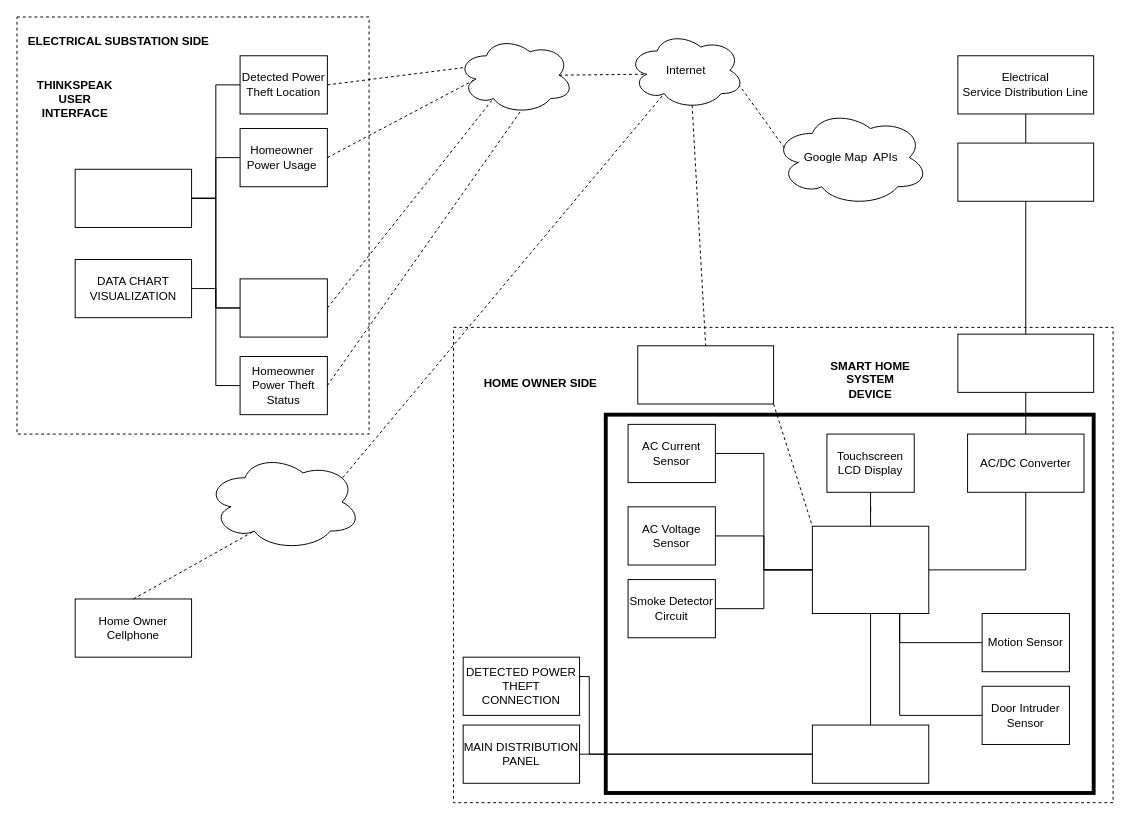
Image size: 1130x820. Some labels were removed from this diagram. The centre of each missing label's shape, as x and y in pixels:
"AC HIGH POWER RELAY" goes at pixel 870 753.
"Breaker" goes at pixel 1025 362.
"DATA TABLE FORMAT" goes at pixel 133 197.
"Electric Meter" goes at pixel 1025 171.
"ESP32" goes at pixel 870 569.
"Homeowner Fire Detected Status" goes at pixel 283 307.
"Thinkspeak" goes at pixel 515 74.
"Twilio APIs" goes at pixel 283 501.
"Wireless Router" goes at pixel 705 374.
